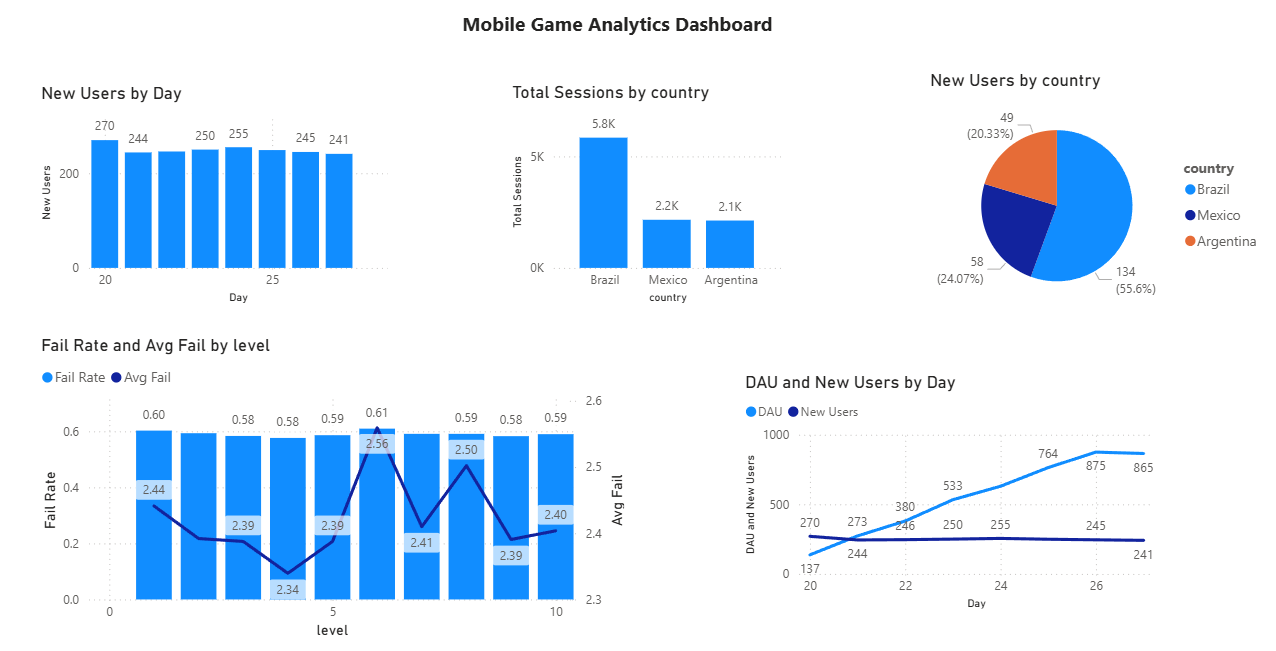

The page's visual inventory and layout, read from the dashboard file:
{"tool":"powerbi","page":{"name":"Page 1","canvas":[1280,720],"ordinal":0},"visuals":[{"type":"columnChart","fields":{"Y":["users.New Users"],"Category":["DateTable.Date.Variation.Date Hierarchy.Day"]},"box":[66.1,86.6,347.2,218.8],"z":0},{"type":"lineChart","fields":{"Y":["users.DAU","users.New Users"],"Category":["DateTable.Date.Variation.Date Hierarchy.Day"]},"box":[750.9,403.6,407.5,235.4],"z":1000},{"type":"pieChart","fields":{"Y":["users.New Users"],"Category":["users.country"]},"box":[928.9,73.9,336.5,245.1],"z":2000},{"type":"lineClusteredColumnComboChart","fields":{"Category":["level_attempts.level"],"Y":["level_attempts.Fail Rate"],"Y2":["level_attempts.Avg Fail"]},"box":[66.1,367.7,576.8,300.5],"z":2002},{"type":"textbox","box":[456.2,17.5,348.2,43.8],"z":2003},{"type":"clusteredColumnChart","fields":{"Y":["sessions.Total Sessions"],"Category":["users.country"]},"box":[519.4,73.9,272.3,219.8],"z":2004}]}

Visuals, with their boxes on the page's 1280x720 design canvas (x1, y1, x2, y2). These are canvas units, not pixel positions in the 1276x651 screenshot, which may show the page scaled, cropped or inside an application window:
columnChart - users.New Users x DateTable.Date.Variation.Date Hierarchy.Day: Rect(66, 87, 413, 305)
lineChart - users.DAU x users.New Users: Rect(751, 404, 1158, 639)
pieChart - users.New Users x users.country: Rect(929, 74, 1265, 319)
lineClusteredColumnComboChart - level_attempts.level x level_attempts.Fail Rate: Rect(66, 368, 643, 668)
textbox: Rect(456, 18, 804, 61)
clusteredColumnChart - sessions.Total Sessions x users.country: Rect(519, 74, 792, 294)
